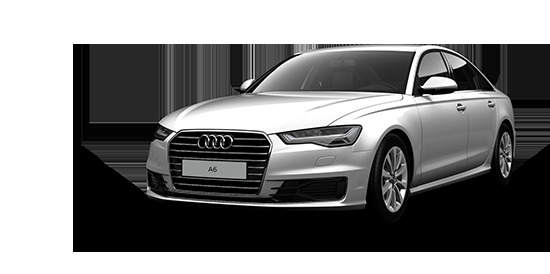audi: (140, 43, 519, 212)
